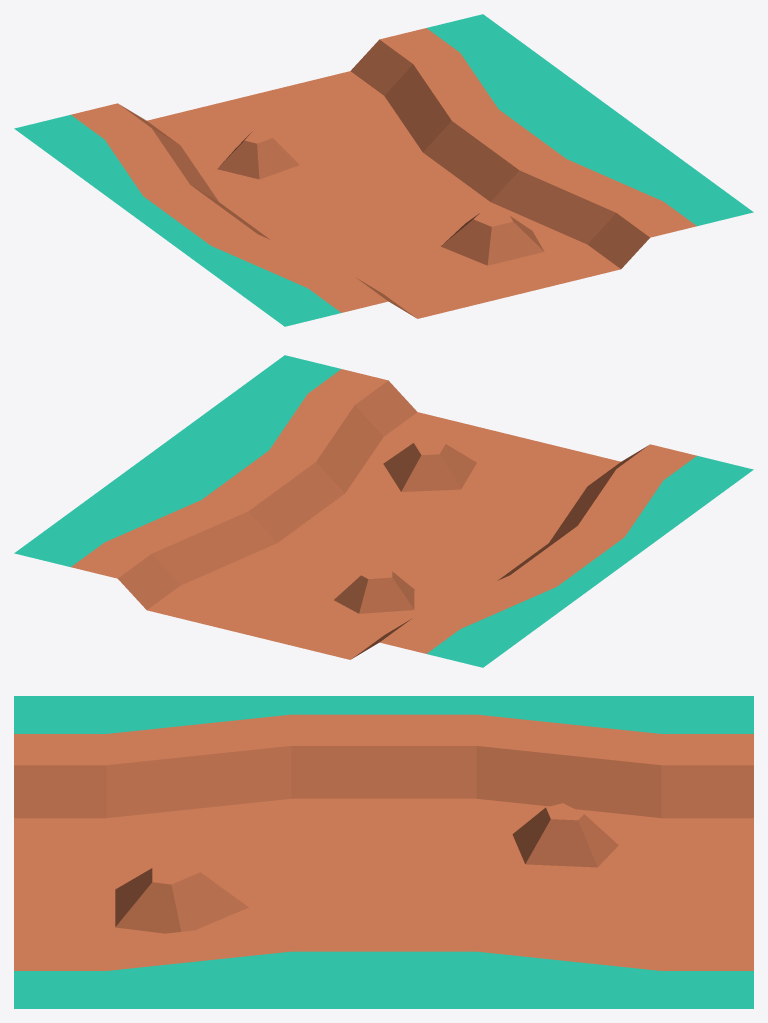
The model's file is ground_pathRocks.dae.
3 views of the same model, one above another, from view 1: azimuth 30°, elevation 25°; view 2: azimuth 150°, elevation 25°; view 3: azimuth 270°, elevation 25° (orthographic). The views are drawn at different scales.
Visible parts, largest first — view 1: ground_pathRocks; view 2: ground_pathRocks; view 3: ground_pathRocks.
Part boxes in pixels (x1,y1,x2,y2): ground_pathRocks: (14, 14, 753, 326); ground_pathRocks: (14, 355, 753, 667); ground_pathRocks: (14, 696, 753, 1008).
Bounding box in the file's own units: 1 × 0.05 × 1.
